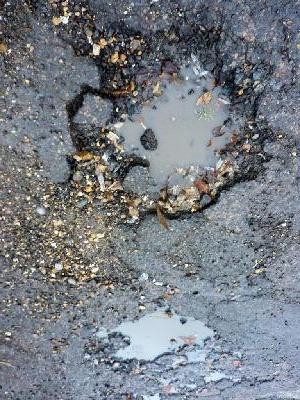pothole: (54, 13, 276, 218), (84, 308, 222, 372)
